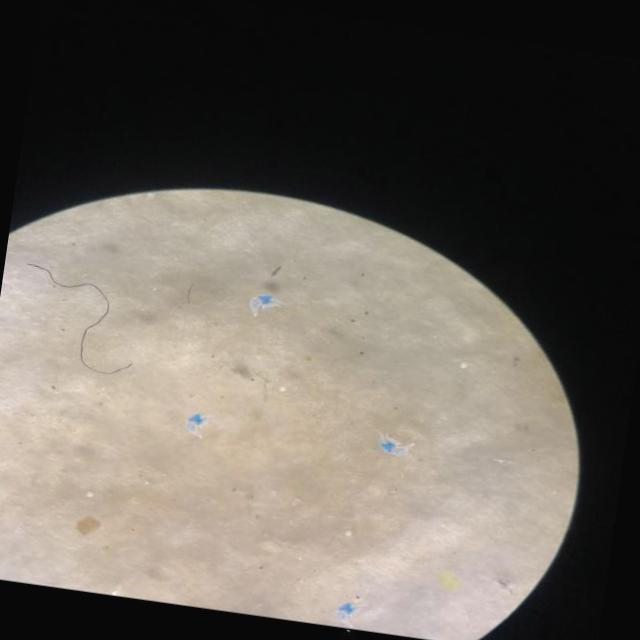fiber: (28, 264, 131, 375)
film: (257, 291, 282, 314), (187, 415, 208, 435), (385, 442, 415, 456), (337, 605, 365, 620)
fragment: (77, 517, 100, 535), (439, 571, 460, 590)
pellet: (280, 386, 287, 392), (345, 531, 353, 536), (461, 363, 468, 368), (88, 492, 93, 496)
